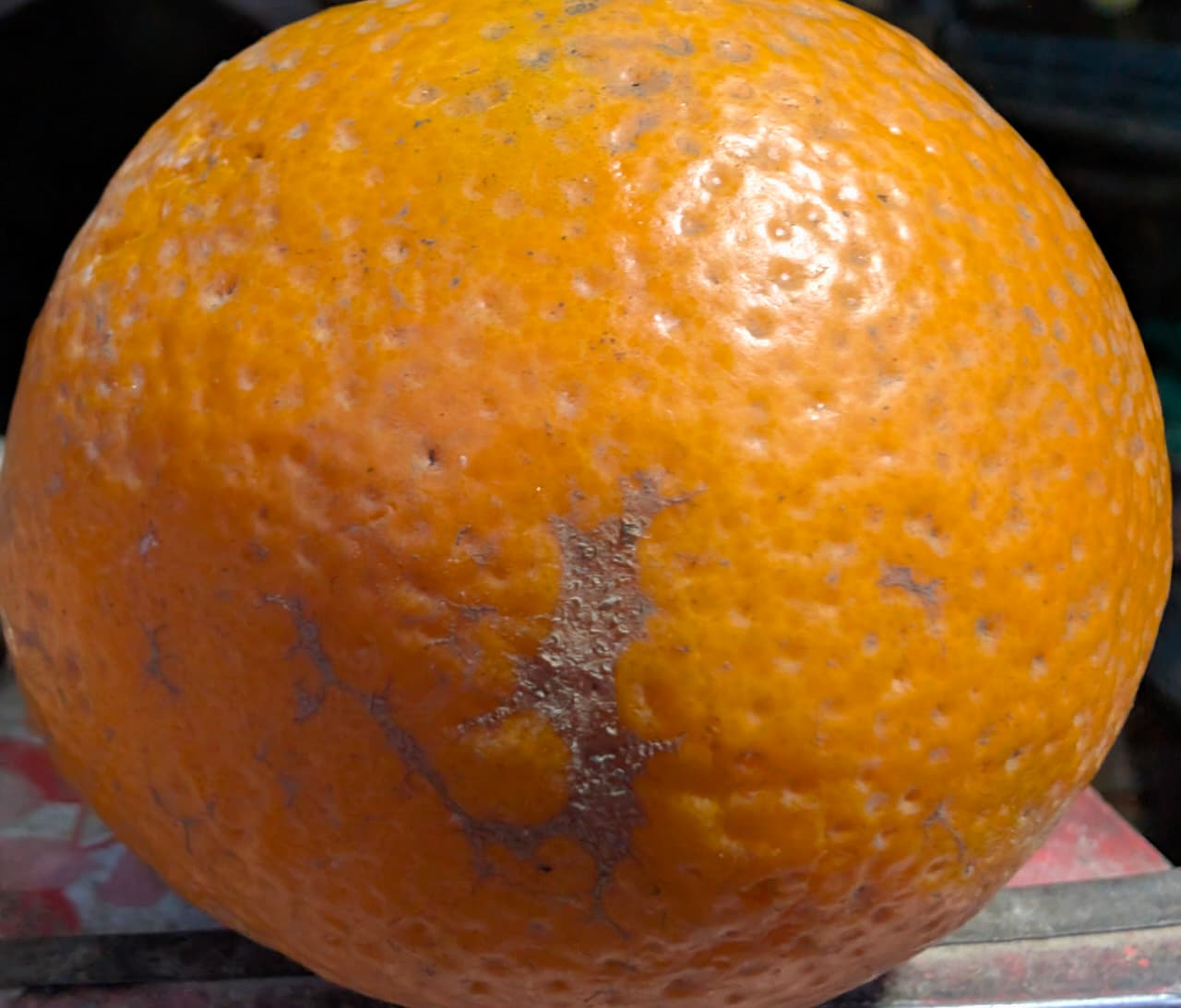orange: (239, 120, 1173, 832)
